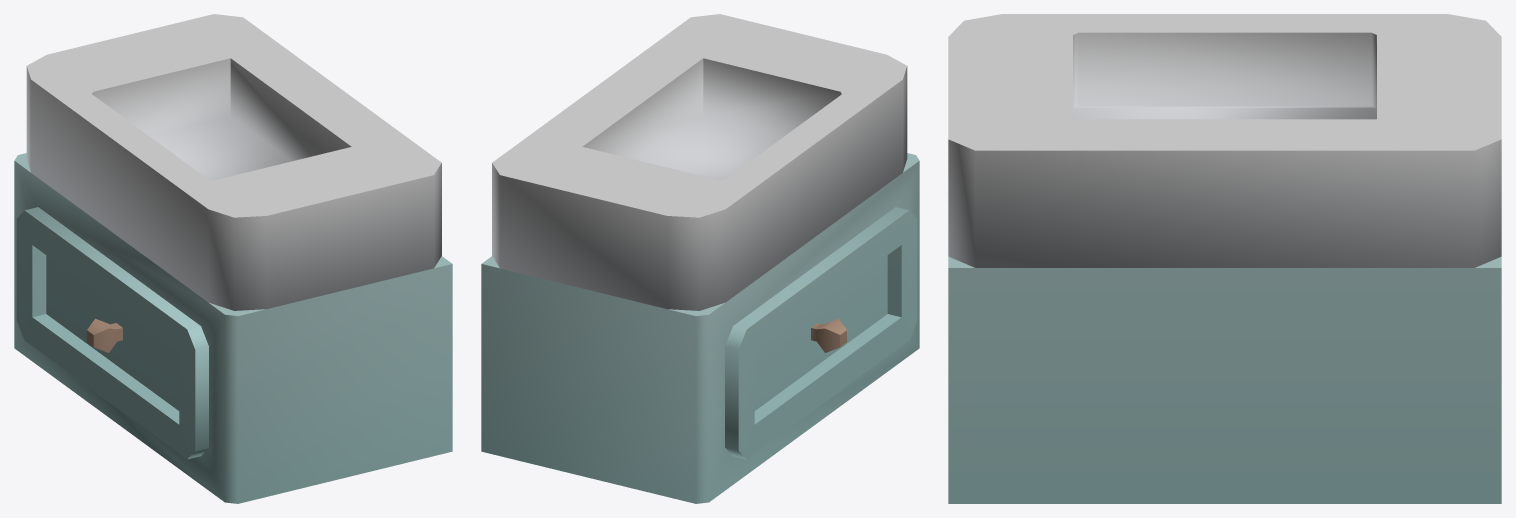
The model's file is sink-hanging-cabinets-classic (%wall).glb.
3 renders of one model, left to right at view 1: azimuth 30°, elevation 25°; view 2: azimuth 150°, elevation 25°; view 3: azimuth 270°, elevation 25°, orthographic. The views are drawn at different scales.
Visible parts, largest first — view 1: sink-hanging-cabinets-classic (%wall); view 2: sink-hanging-cabinets-classic (%wall); view 3: sink-hanging-cabinets-classic (%wall).
Boxes of the visible parts, <box> form: sink-hanging-cabinets-classic (%wall): <box>14,14,452,503</box>; sink-hanging-cabinets-classic (%wall): <box>481,14,919,503</box>; sink-hanging-cabinets-classic (%wall): <box>948,14,1501,503</box>.
Size of the model in its own units: 0.4569 by 0.4865 by 0.6905.
